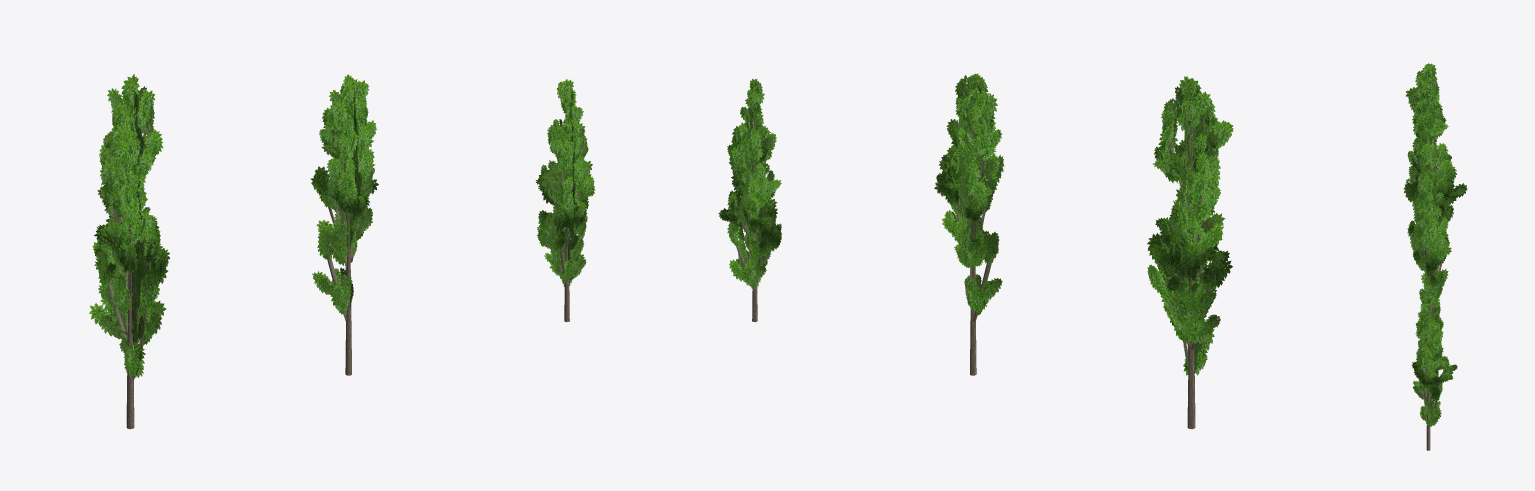
File: tree_poplar.glb
3 renders of one model, left to right at view 1: azimuth 30°, elevation 25°; view 2: azimuth 150°, elevation 25°; view 3: azimuth 270°, elevation 25°, orthographic. The views are drawn at different scales.
Parts seen in each view (by area): view 1: poplar_v0_LOD1_leaves, poplar_v0_LOD0_leaves, poplar_v1_LOD1_leaves, poplar_v2_LOD1_leaves, poplar_v0_LOD2_impostor, poplar_v1_LOD0_leaves, poplar_v1_LOD2_impostor, poplar_v2_LOD0_leaves, poplar_v2_LOD2_impostor; view 2: poplar_v0_LOD1_leaves, poplar_v0_LOD0_leaves, poplar_v1_LOD1_leaves, poplar_v2_LOD1_leaves, poplar_v1_LOD0_leaves, poplar_v0_LOD2_impostor, poplar_v2_LOD0_leaves, poplar_v1_LOD2_impostor, poplar_v2_LOD2_impostor; view 3: poplar_v0_LOD1_leaves, poplar_v2_LOD1_leaves, poplar_v1_LOD1_leaves, poplar_v0_LOD0_leaves, poplar_v1_LOD0_leaves, poplar_v2_LOD0_leaves, poplar_v0_LOD2_impostor, poplar_v2_LOD2_impostor, poplar_v1_LOD2_impostor.
Part boxes in pixels (<box>): poplar_v0_LOD1_leaves: <box>89,74,169,377</box>; poplar_v0_LOD0_leaves: <box>92,79,167,375</box>; poplar_v1_LOD1_leaves: <box>310,74,378,314</box>; poplar_v2_LOD1_leaves: <box>535,79,595,286</box>; poplar_v0_LOD2_impostor: <box>96,79,160,427</box>; poplar_v1_LOD0_leaves: <box>313,77,375,312</box>; poplar_v1_LOD2_impostor: <box>319,77,374,371</box>; poplar_v2_LOD0_leaves: <box>537,81,594,282</box>; poplar_v2_LOD2_impostor: <box>540,84,588,318</box>; poplar_v0_LOD1_leaves: <box>1147,76,1233,375</box>; poplar_v0_LOD0_leaves: <box>1149,81,1228,371</box>; poplar_v1_LOD1_leaves: <box>934,73,1004,315</box>; poplar_v2_LOD1_leaves: <box>718,79,781,289</box>; poplar_v1_LOD0_leaves: <box>936,78,1001,312</box>; poplar_v0_LOD2_impostor: <box>1157,80,1225,427</box>; poplar_v2_LOD0_leaves: <box>720,82,781,286</box>; poplar_v1_LOD2_impostor: <box>949,77,1002,371</box>; poplar_v2_LOD2_impostor: <box>732,81,781,318</box>; poplar_v0_LOD1_leaves: <box>1403,63,1467,267</box>; poplar_v2_LOD1_leaves: <box>1412,284,1457,426</box>; poplar_v1_LOD1_leaves: <box>1408,170,1451,314</box>; poplar_v0_LOD0_leaves: <box>1405,66,1464,235</box>; poplar_v1_LOD0_leaves: <box>1411,174,1449,307</box>; poplar_v2_LOD0_leaves: <box>1412,287,1456,424</box>; poplar_v0_LOD2_impostor: <box>1405,65,1464,249</box>; poplar_v2_LOD2_impostor: <box>1412,285,1456,420</box>; poplar_v1_LOD2_impostor: <box>1410,172,1449,318</box>.
Bounding box in the file's own units: 34.75 × 19.17 × 12.76.
4 materials, 4 textured.
